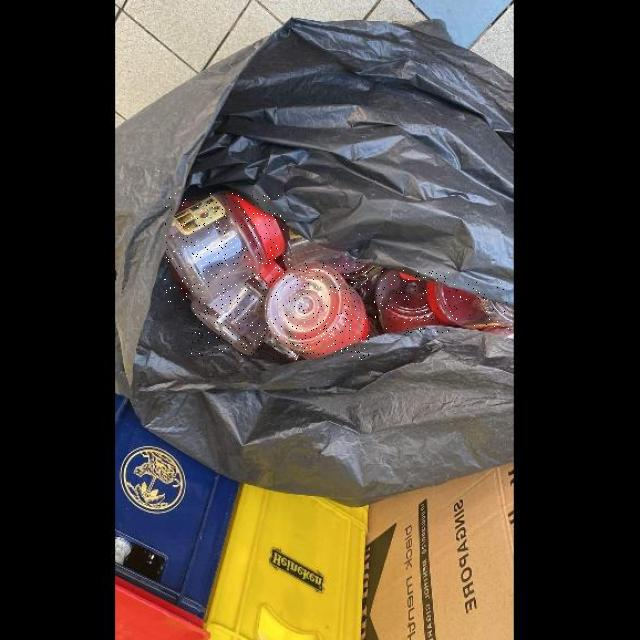plastic: (164, 193, 285, 303), (192, 245, 286, 355), (264, 262, 369, 360), (375, 270, 450, 333), (427, 282, 513, 329)
